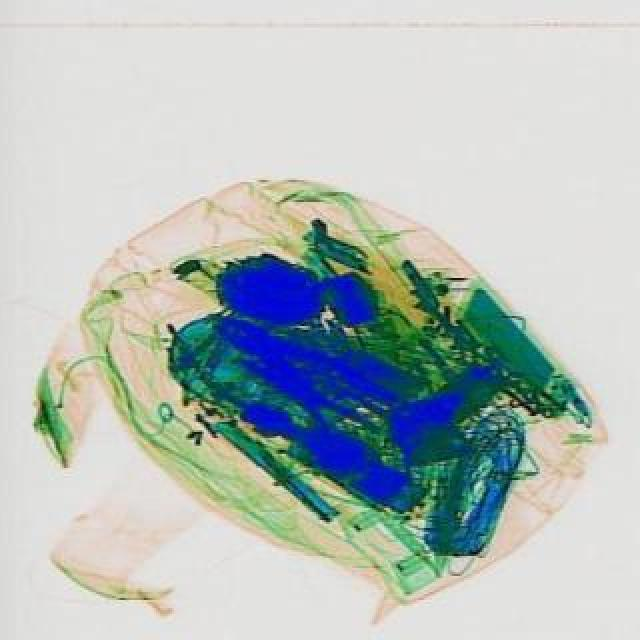wrench: (194, 292, 398, 440)
